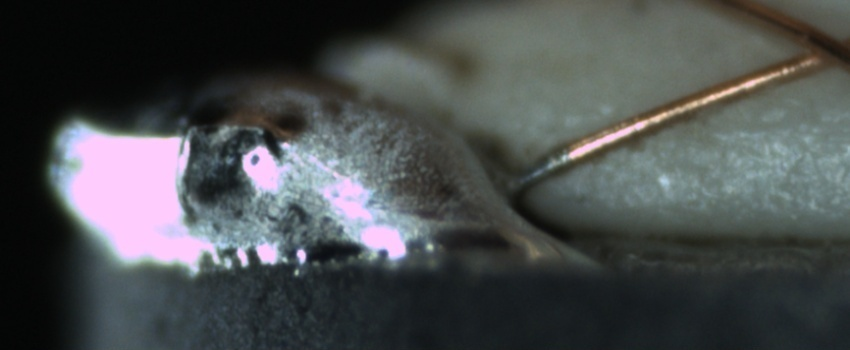CL: (773, 16, 850, 79)
DL: (672, 97, 848, 160)
TS: (512, 149, 572, 190)
